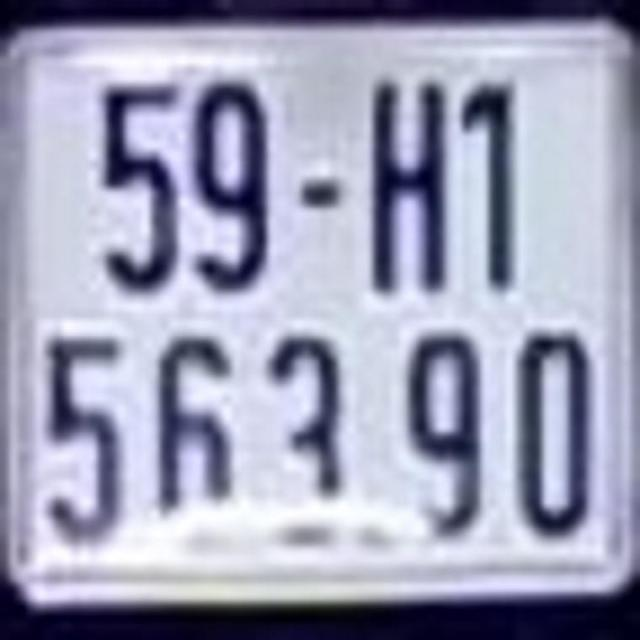0: (511, 319, 593, 552)
1: (454, 70, 532, 298)
3: (266, 324, 346, 554)
5: (42, 320, 129, 551), (100, 71, 182, 294)
6: (152, 322, 236, 549)
9: (400, 327, 485, 544), (187, 70, 269, 292)
H: (364, 72, 450, 301)
